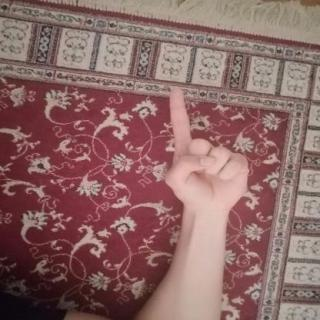BAA: (145, 80, 259, 215)
